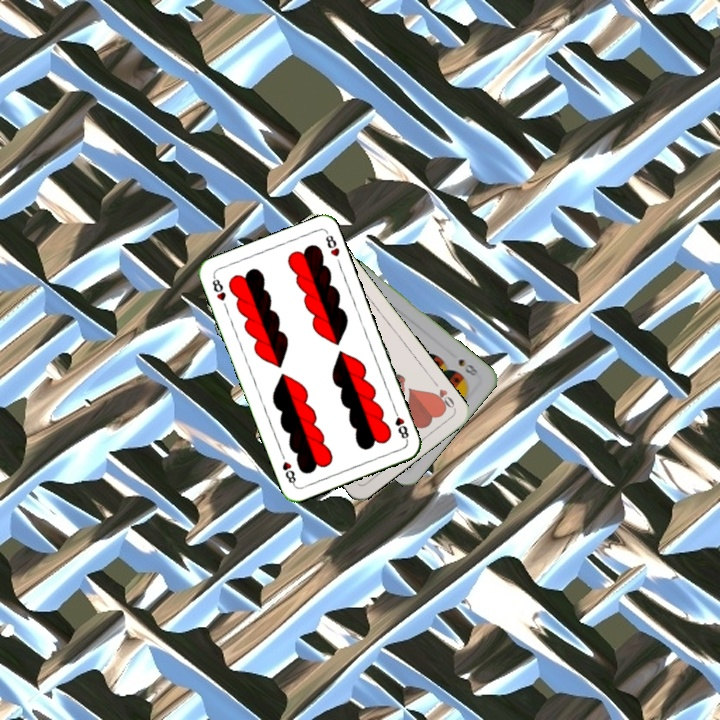H8: (389, 405, 411, 444), (208, 272, 228, 303)
HO: (428, 376, 458, 413)
S8: (454, 355, 481, 379)
